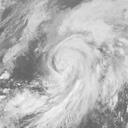cyclone: (48, 34, 96, 83)
